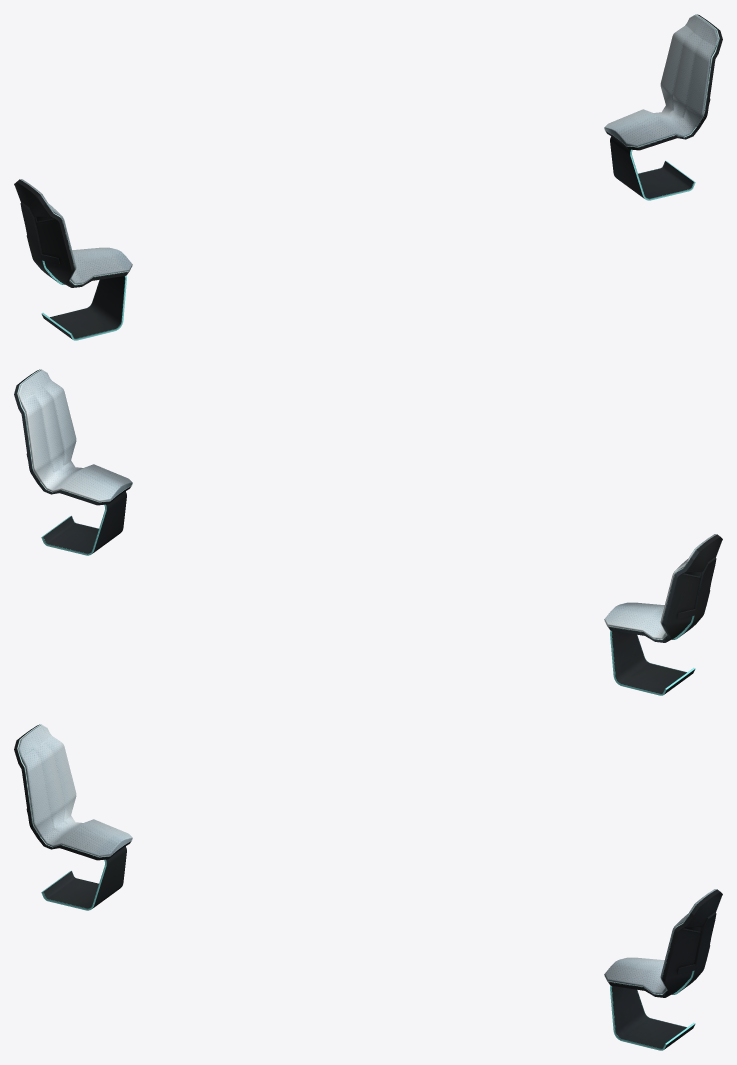
File: SciFi_Conf_Room_Chair_Set01.FBX
3 renders of one model, top to bottom at view 1: azimuth 30°, elevation 25°; view 2: azimuth 150°, elevation 25°; view 3: azimuth 330°, elevation 25°, orthographic.
Parts seen in each view (by area): view 1: SciFi_Conf_Room_Chair_01, SciFi_Conf_Room_Chair_02; view 2: SciFi_Conf_Room_Chair_01, SciFi_Conf_Room_Chair_02; view 3: SciFi_Conf_Room_Chair_02, SciFi_Conf_Room_Chair_01.
Part boxes in pixels (x1,y1,x2,y2): SciFi_Conf_Room_Chair_01: [604, 14, 722, 200]; SciFi_Conf_Room_Chair_02: [14, 179, 132, 340]; SciFi_Conf_Room_Chair_01: [14, 369, 132, 555]; SciFi_Conf_Room_Chair_02: [604, 534, 722, 695]; SciFi_Conf_Room_Chair_02: [14, 724, 132, 910]; SciFi_Conf_Room_Chair_01: [604, 889, 722, 1050].
Size of the model in its own units: 6176 by 1302 by 658.
